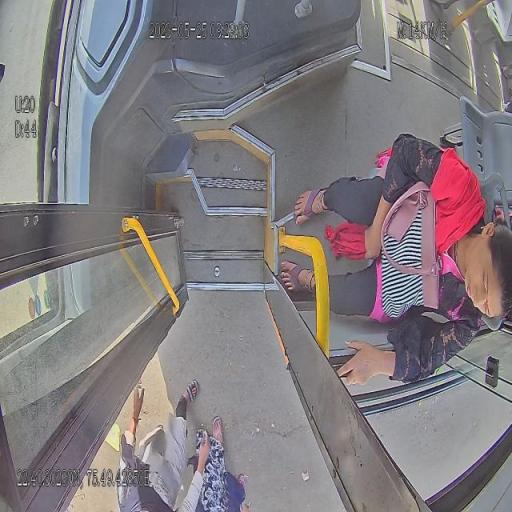persona: (279, 133, 511, 387), (116, 378, 210, 512), (193, 414, 251, 512)
